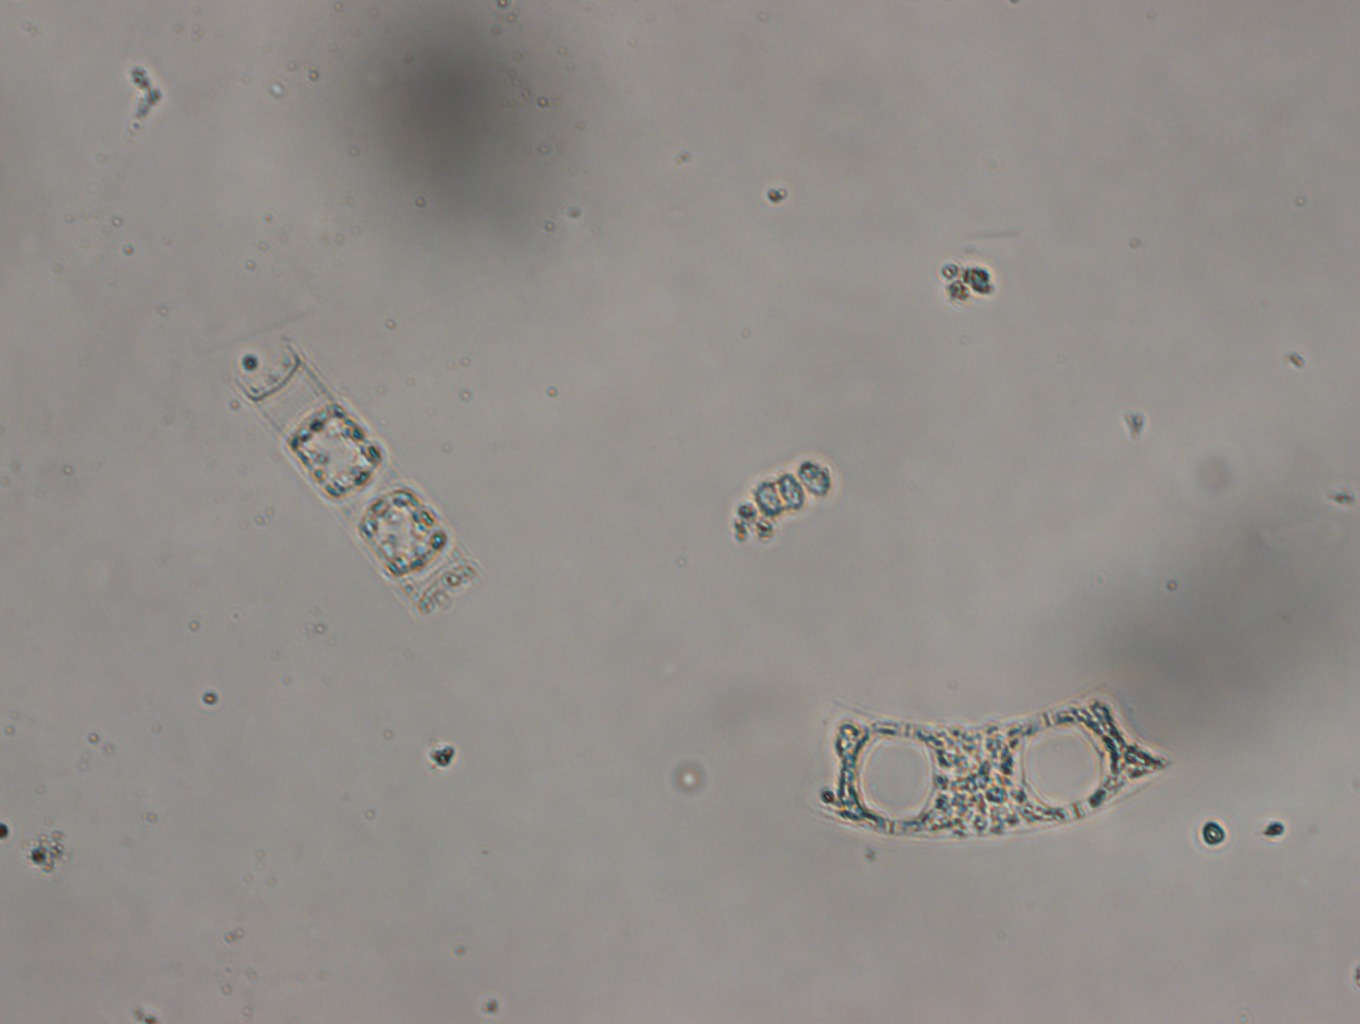eucampia: (806, 685, 1172, 845)
skeletonema: (226, 336, 490, 630)
